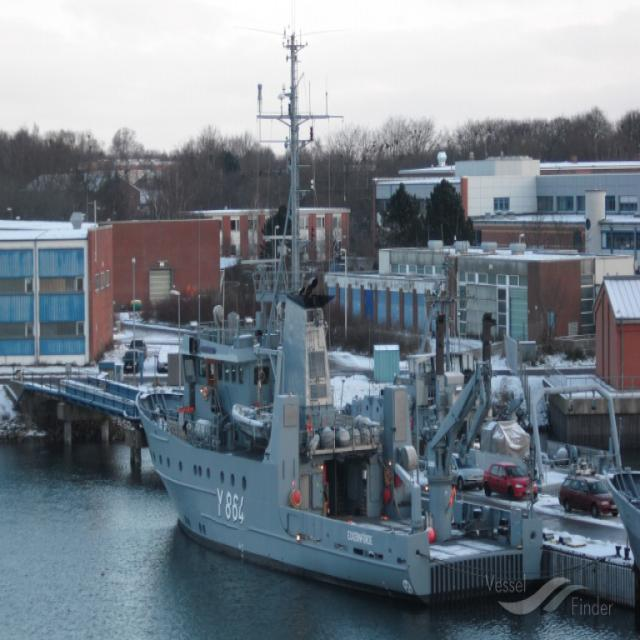OCR: (212, 480, 252, 530)
